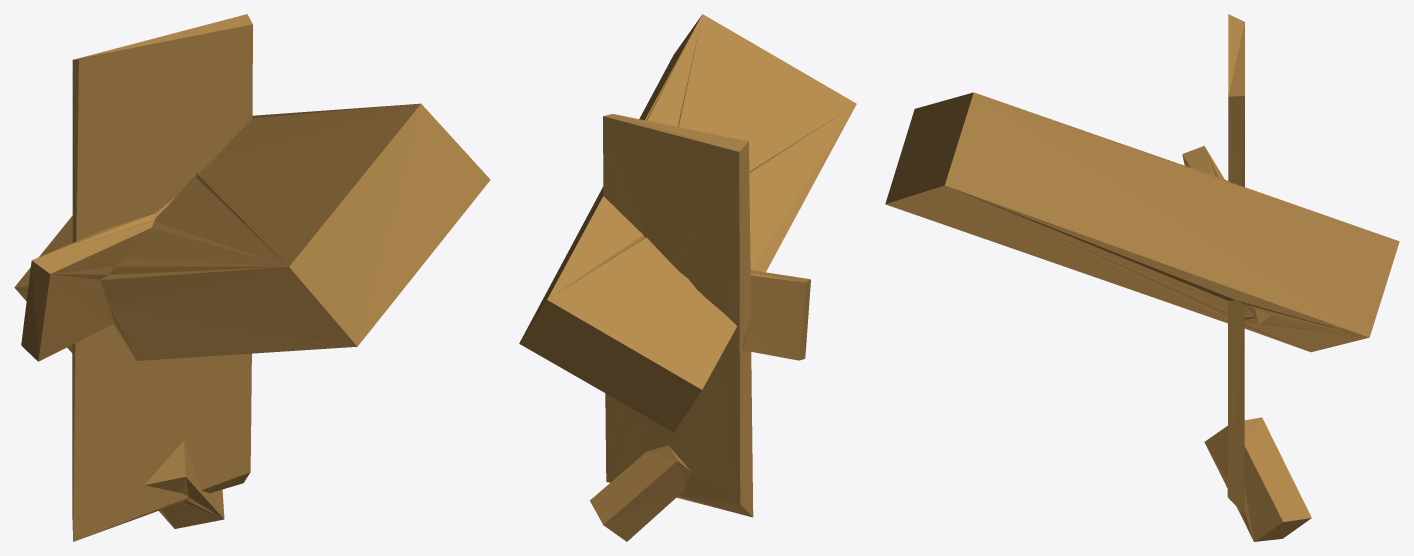
3 renders of one model, left to right at view 1: azimuth 30°, elevation 25°; view 2: azimuth 150°, elevation 25°; view 3: azimuth 270°, elevation 25°, orthographic. The views are drawn at different scales.
Visible parts, largest first — view 1: 759_Cube.3055; view 2: 759_Cube.3055; view 3: 759_Cube.3055.
Part boxes in pixels (bbox=[...]): 759_Cube.3055: bbox=[14, 14, 490, 541]; 759_Cube.3055: bbox=[519, 14, 856, 541]; 759_Cube.3055: bbox=[885, 14, 1399, 541].
Bounding box in the file's own units: 8.43 × 13.63 × 13.26.
